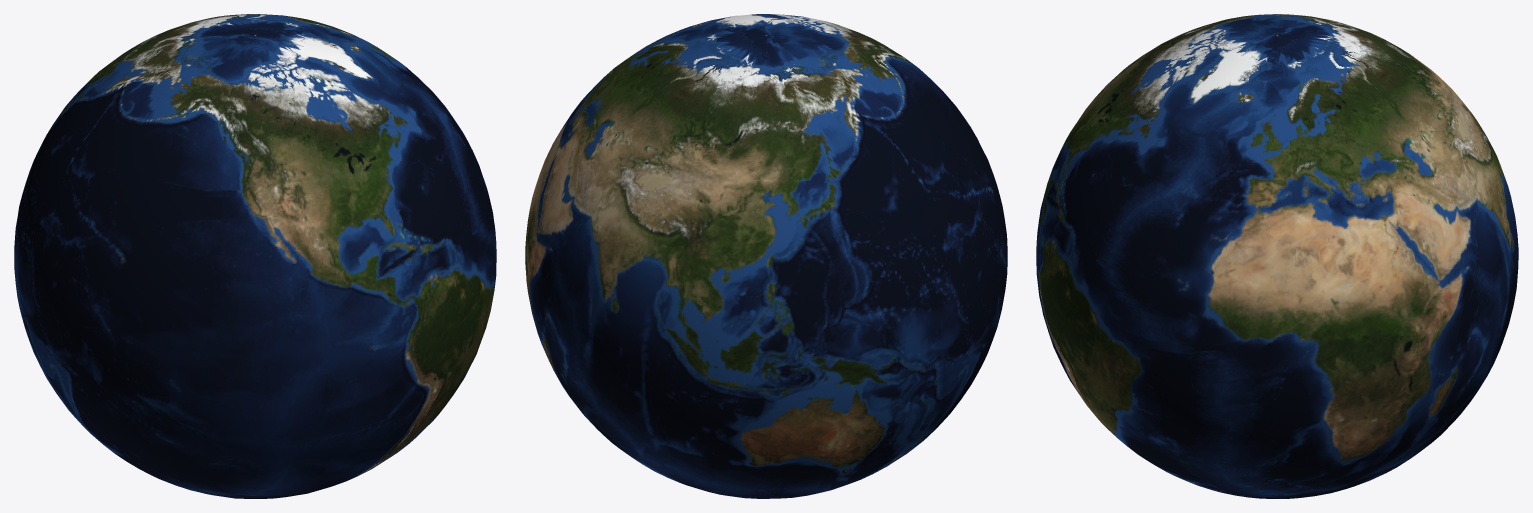
File: earth-night.glb
3 renders of one model, left to right at view 1: azimuth 30°, elevation 25°; view 2: azimuth 150°, elevation 25°; view 3: azimuth 270°, elevation 25°, orthographic.
Visible parts, largest first — view 1: Object_4; view 2: Object_4; view 3: Object_4.
Part boxes in pixels (bbox=[...]): Object_4: bbox=[14, 14, 496, 498]; Object_4: bbox=[525, 14, 1007, 498]; Object_4: bbox=[1036, 14, 1518, 498].
Bounding box in the file's own units: 2.23 × 2.25 × 2.23.
1 material, 1 textured.
